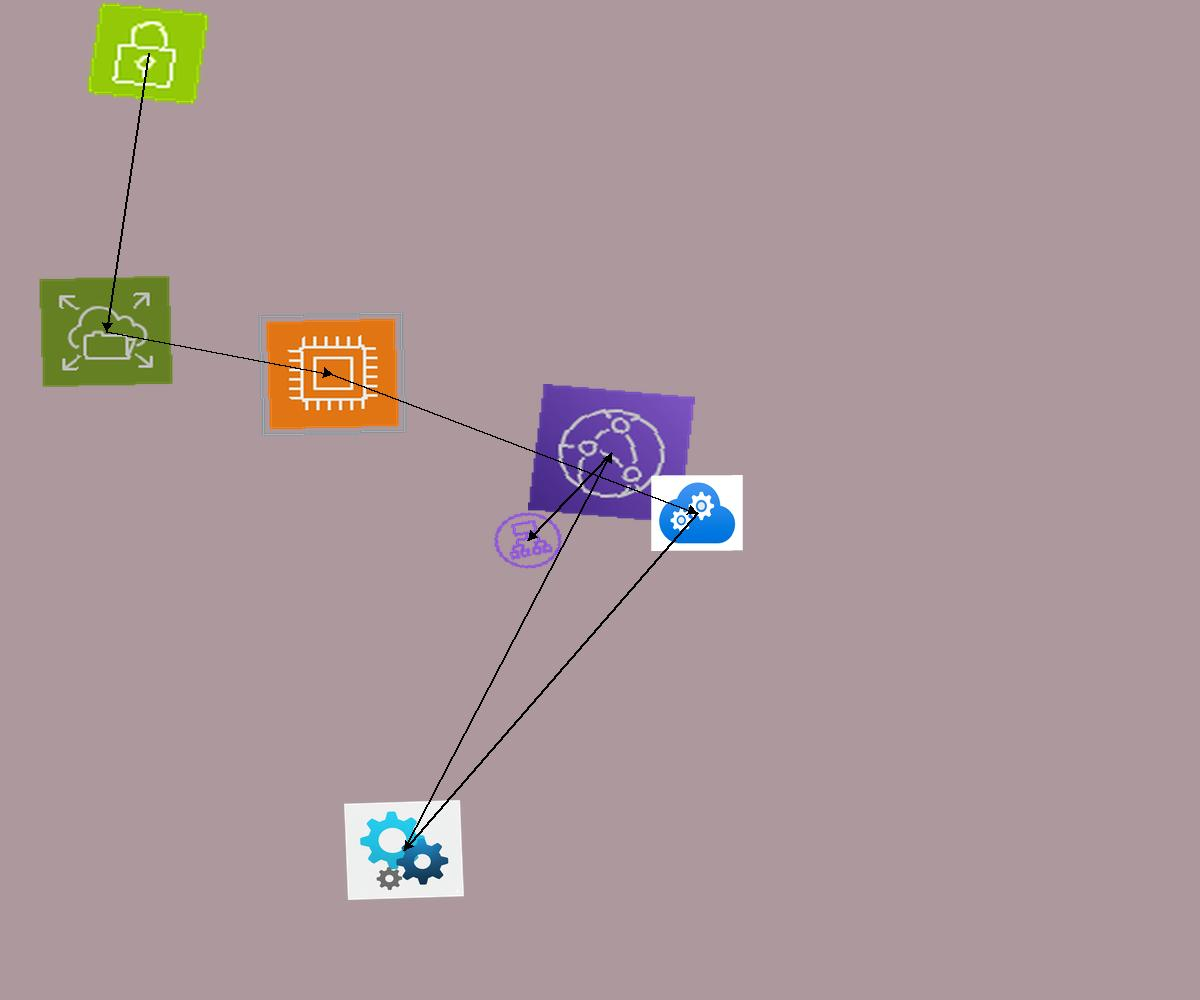AWS-Category_Compute: (257, 311, 408, 437)
AWS-CloudFront: (528, 384, 695, 523)
AWS-EFS: (38, 275, 174, 388)
AWS-Public-subnet: (85, 1, 211, 106)
AWS-Res_Elastic-Load-Balancing_Application-Load-Balancer: (484, 504, 572, 577)
Azure_api: (344, 800, 464, 900)
Azure_cloud_services: (651, 475, 743, 551)
